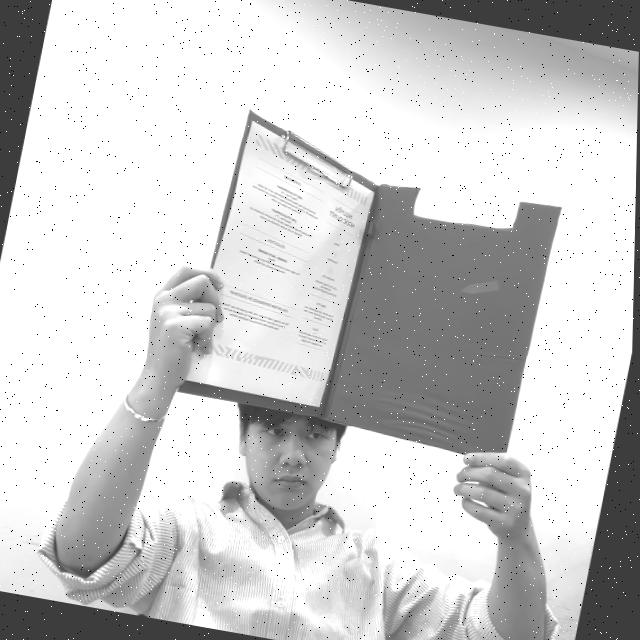document: (181, 121, 373, 406)
face: (232, 406, 345, 515)
